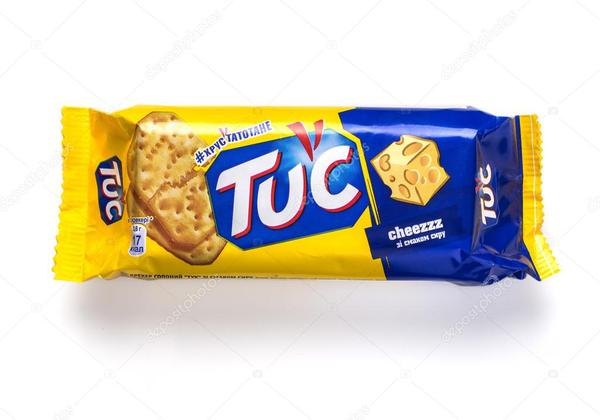crackers tuc: (87, 109, 523, 278)
